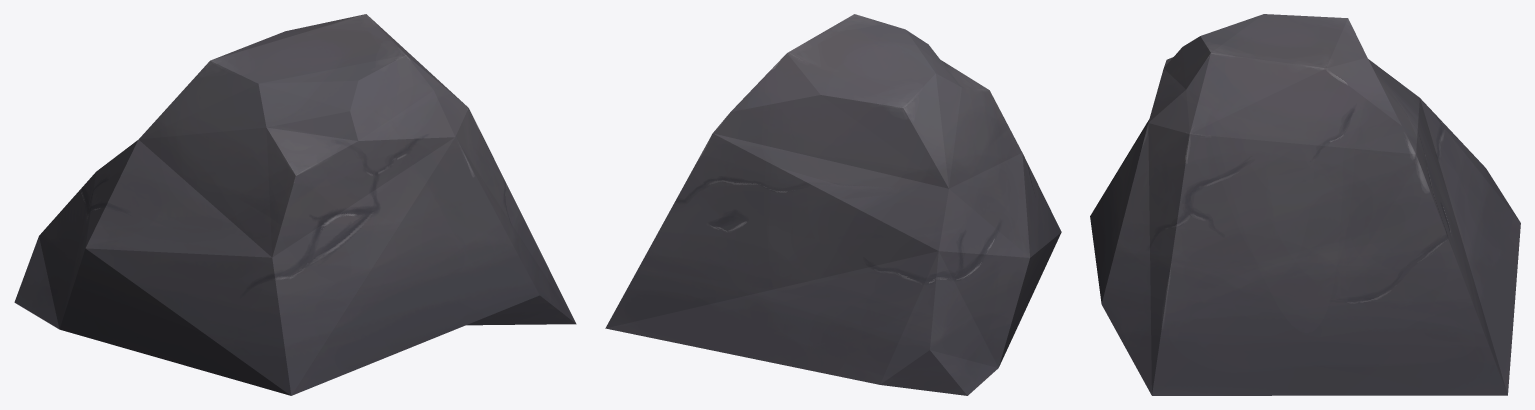
Rendered from rock_1.fbx.
3 views of the same model, side by side, from view 1: azimuth 30°, elevation 25°; view 2: azimuth 150°, elevation 25°; view 3: azimuth 270°, elevation 25° (orthographic). The views are drawn at different scales.
Parts seen in each view (by area): view 1: Cube.018; view 2: Cube.018; view 3: Cube.018.
Boxes of the visible parts, x1,y1,x2,y2 form: Cube.018: (14, 14, 576, 395); Cube.018: (605, 14, 1061, 395); Cube.018: (1090, 14, 1520, 395).
Size of the model in its own units: 509 by 346 by 482.
